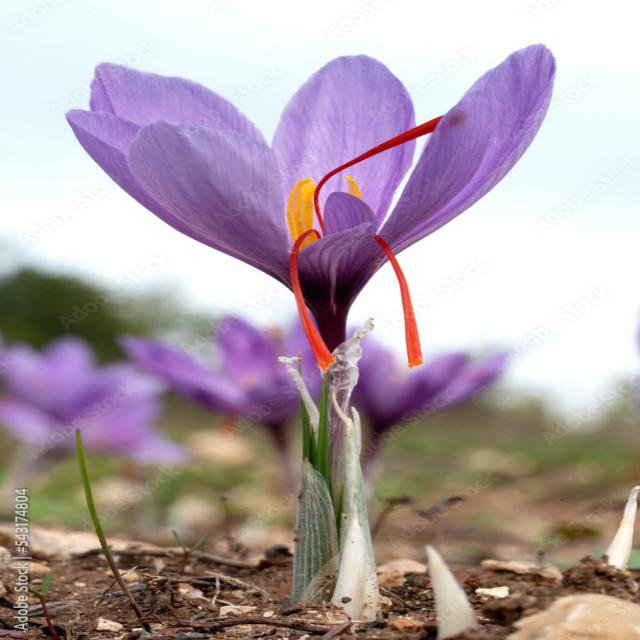saffron open: (66, 45, 555, 369)
